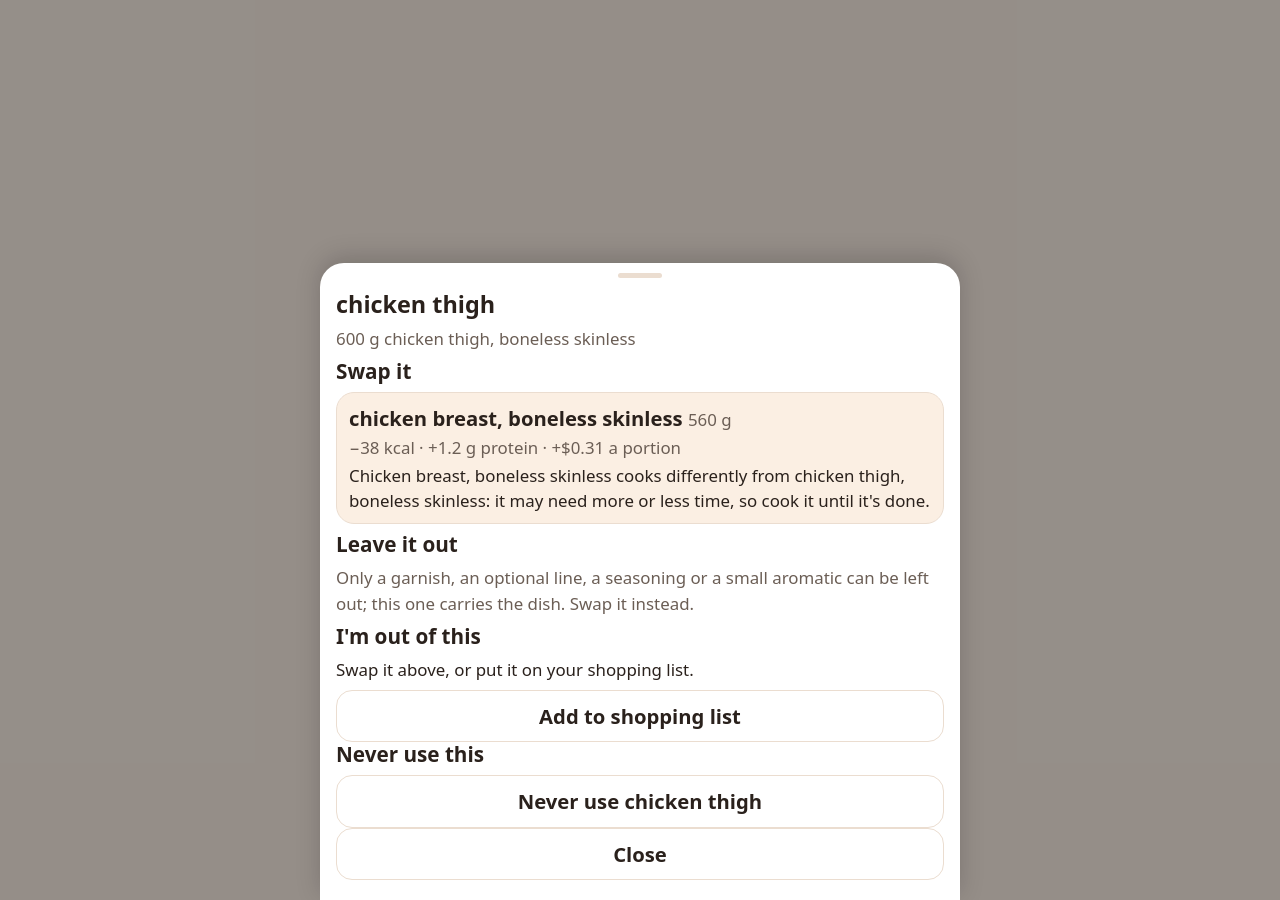
Test: a line's ⋯ (AA5) › a cooked batch keeps its recipe: the plan note says so, with no update button
This screenshot has width=1280, height=900.
Step 1. Click the button with aria-label "Swap to chicken breast, boneless skinless" → (640, 458), box left=336, top=392, right=944, bottom=524
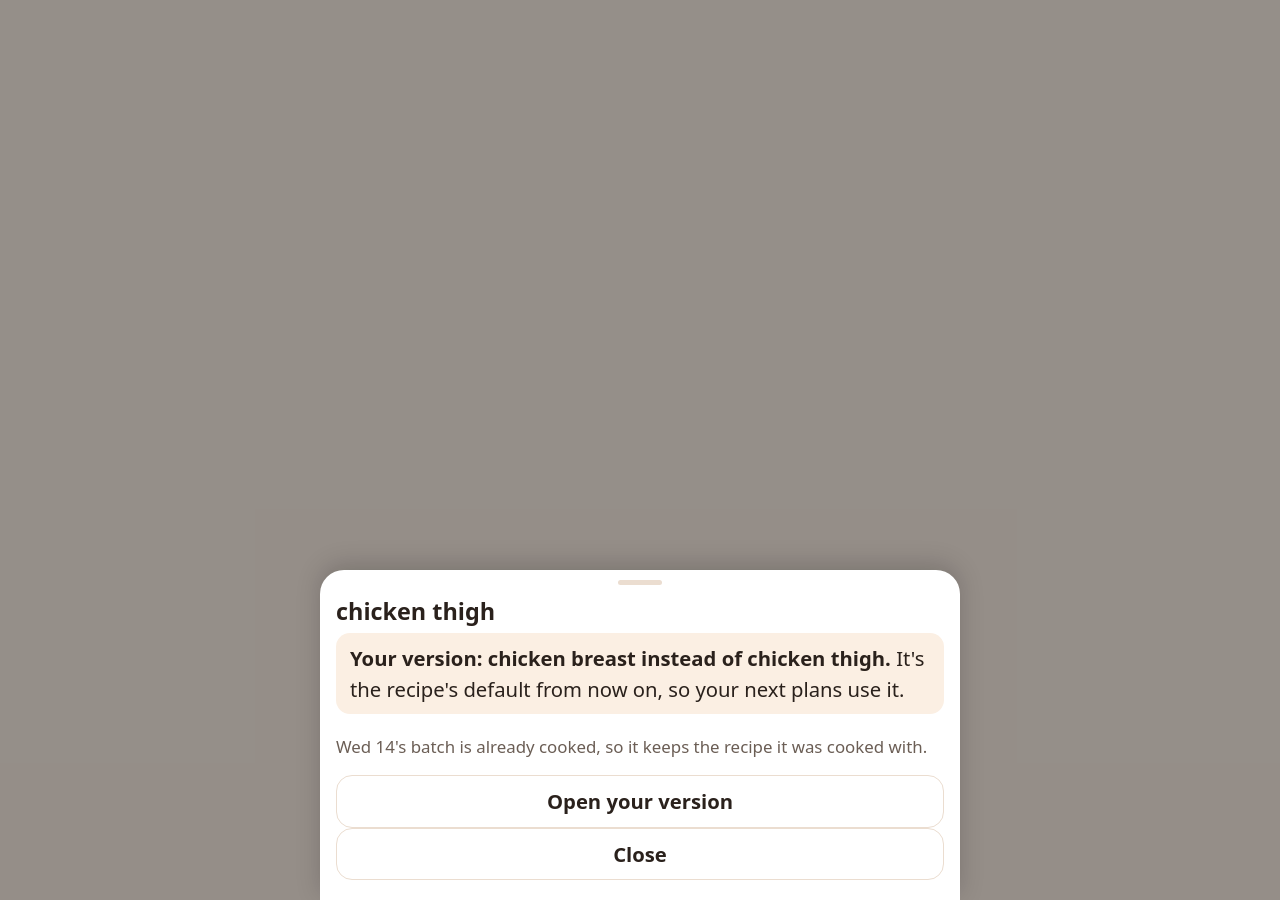
Now the text "already cooked" is shown, box left=336, top=735, right=927, bottom=758
